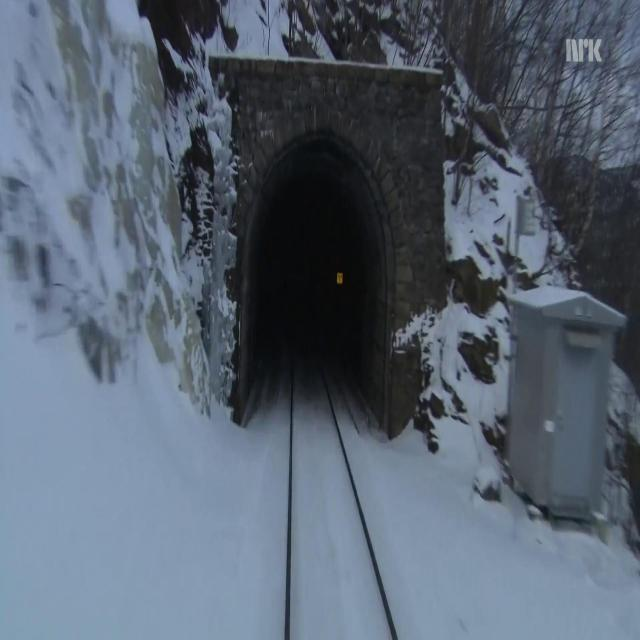rail-track: (290, 309, 393, 639)
